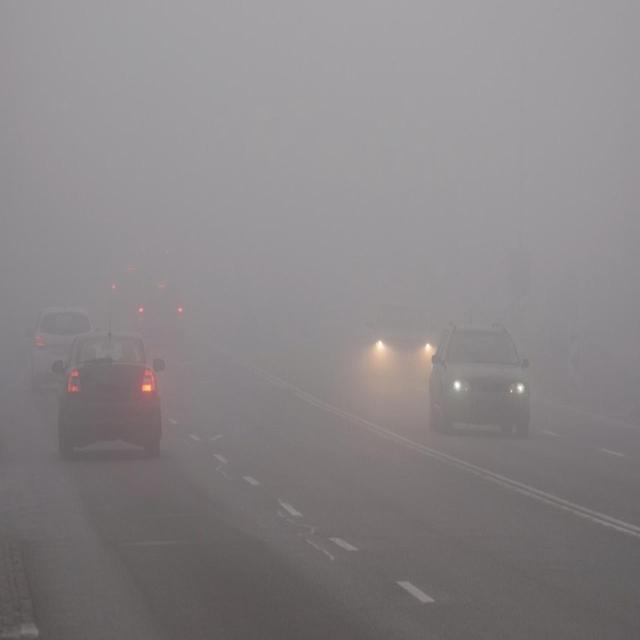Car: (50, 327, 167, 460), (424, 320, 540, 440), (22, 304, 100, 398), (129, 277, 192, 340)
